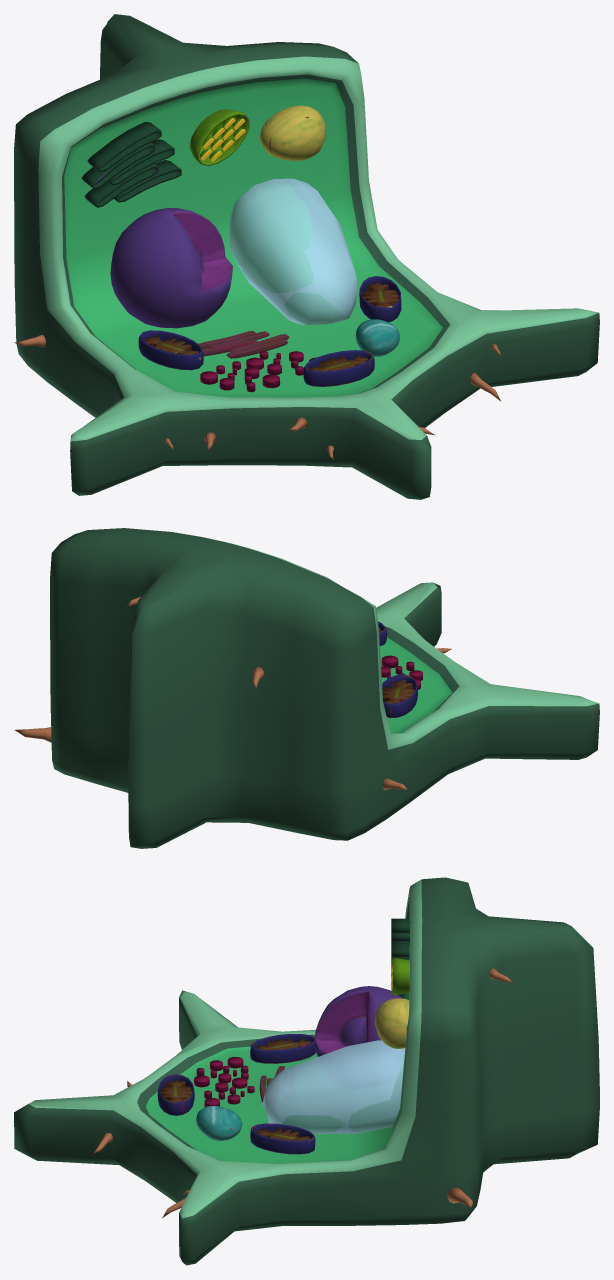
The model's file is Cell.fbx.
The picture shows the model from 3 angles, top to bottom: view 1: azimuth 30°, elevation 25°; view 2: azimuth 150°, elevation 25°; view 3: azimuth 270°, elevation 25°; orthographic projection. The views are drawn at different scales.
Visible parts, largest first — view 1: Cell, Vakuola, Plastida; view 2: Cell; view 3: Cell, Vakuola, Plastida.
Part boxes in pixels (x1,y1,x2,y2): Cell: (14,14,599,499); Vakuola: (229,178,357,325); Plastida: (189,109,249,165); Cell: (14,528,599,848); Cell: (14,877,599,1265); Vakuola: (262,1040,405,1134); Plastida: (391,958,409,994).
Size of the model in its own units: 376 by 183 by 408.
